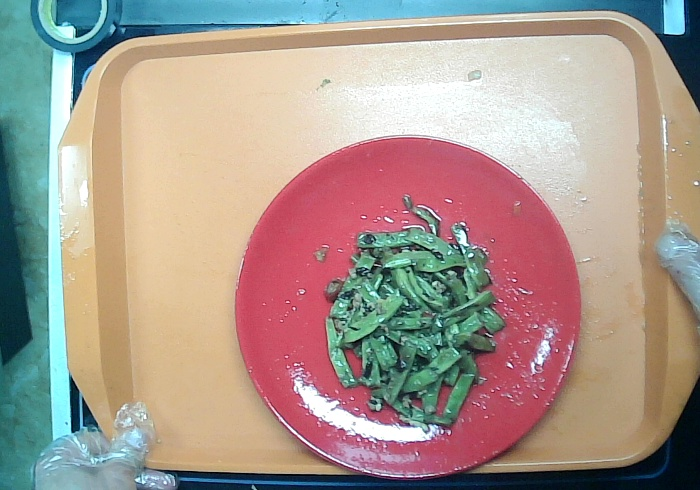HZYJPL-Hong_Se_Yuan_Pan: (244, 132, 585, 479)
